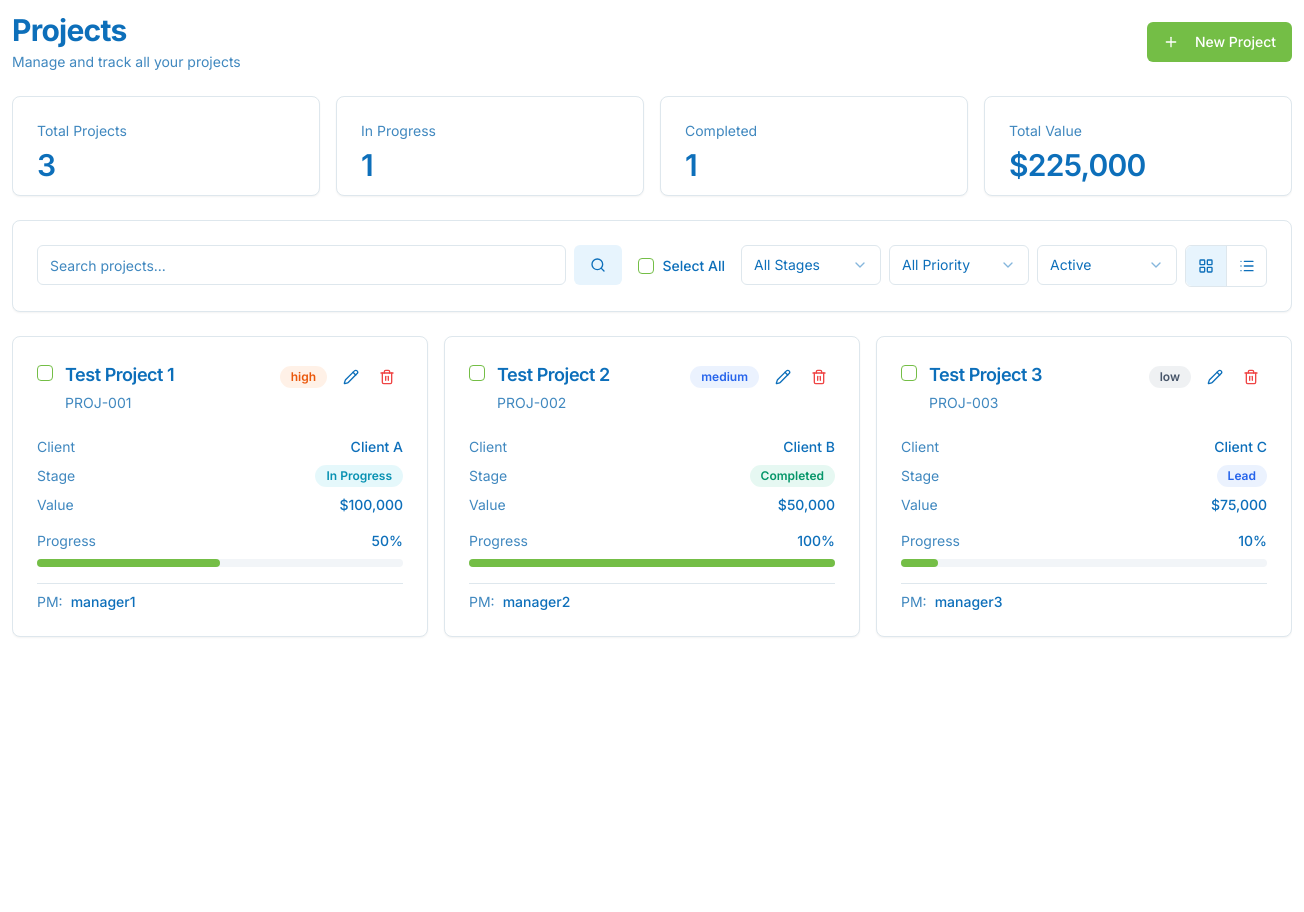
Test case: ProjectsPage › Project Selection › clears selection
This screenshot has width=1304, height=912.
Expected: the text "Test Project 1" is shown, [65,364,174,385]
// Select all first
What coordinates should you click on to do the following:
click the checkbox named "Select All" next to "Select All"
I would click on:
 (646, 266)
Its box is [638,258,654,274].
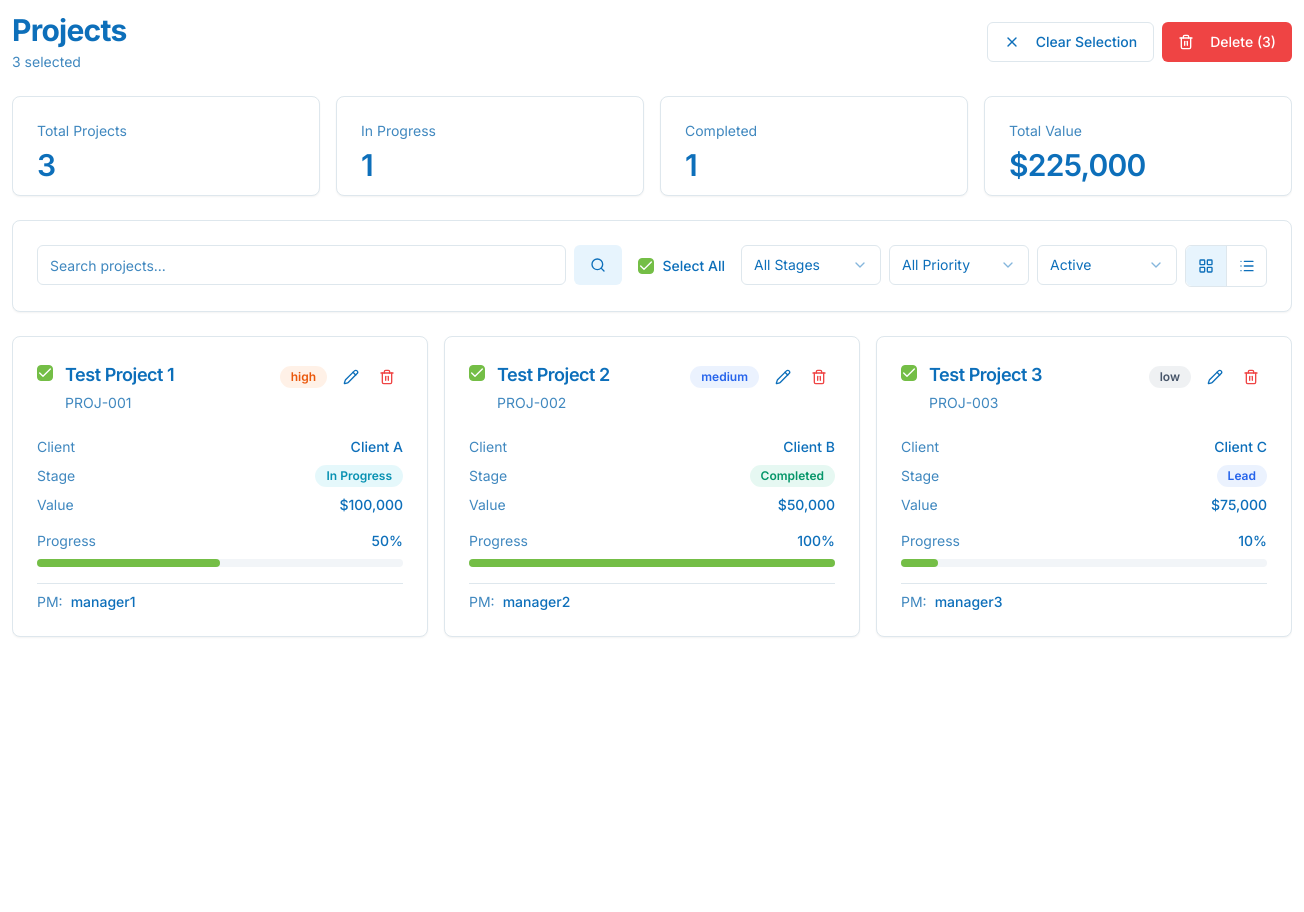
Expected: the text "3 selected" is shown, [12,53,81,70]
// Clear selection
What coordinates should you click on to do the following:
click the button "Clear Selection"
I would click on:
 (1070, 42)
Its box is [987,22,1154,62].
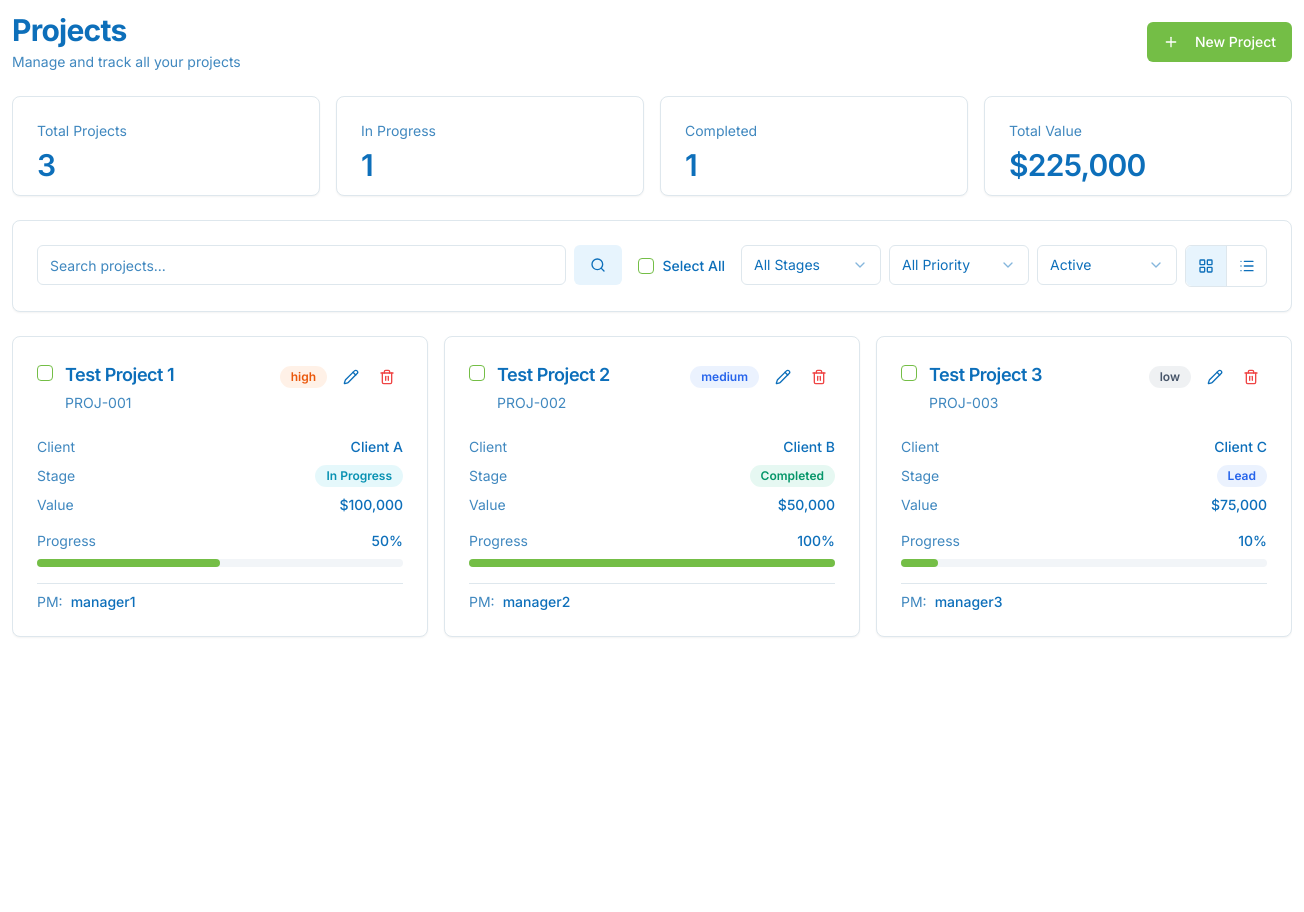
Expected: the text "Manage and track all your projects" is shown, [12,52,241,72]
